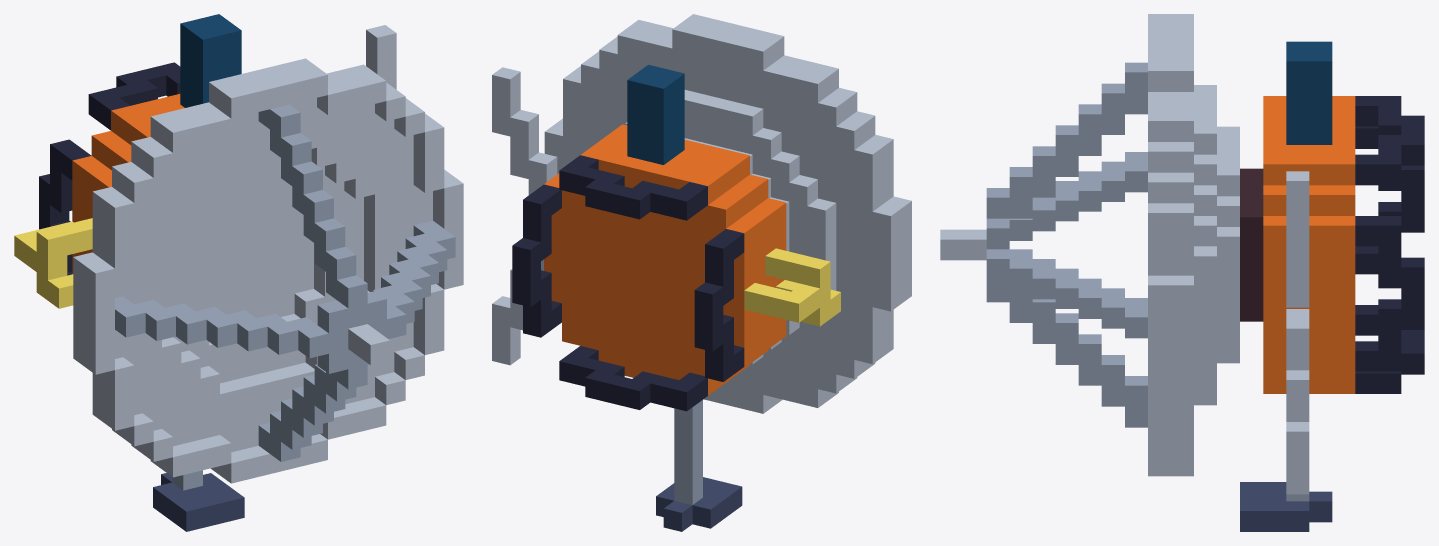
File: probe.obj
The picture shows the model from 3 angles, left to right: view 1: azimuth 30°, elevation 25°; view 2: azimuth 150°, elevation 25°; view 3: azimuth 270°, elevation 25°; orthographic projection. The views are drawn at different scales.
Size of the model in its own units: 1.9 by 2.3 by 2.1.
Materials: 1 (1 with a texture image).
